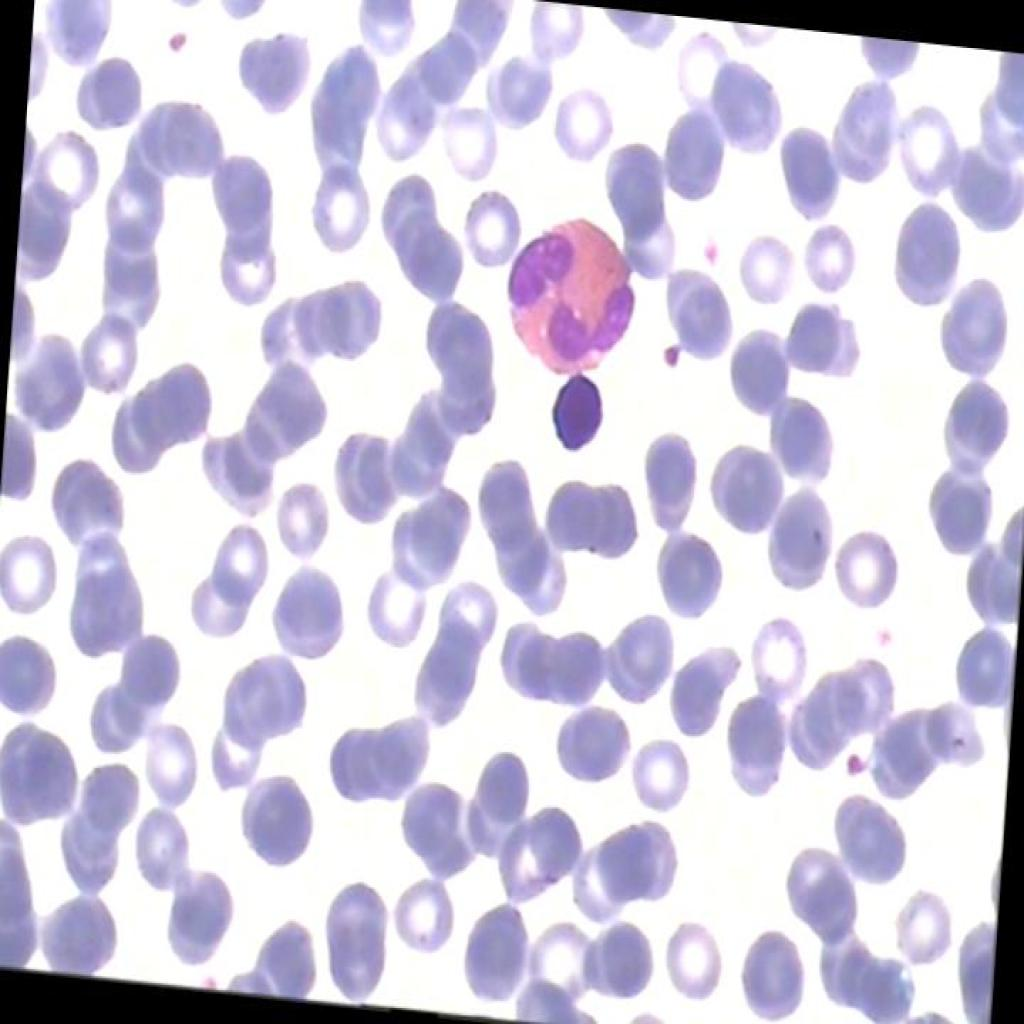Eosinofil: (494, 192, 646, 382)
Platelet: (162, 7, 198, 77), (835, 732, 870, 784), (654, 331, 686, 384), (869, 606, 900, 658), (698, 230, 724, 278)
